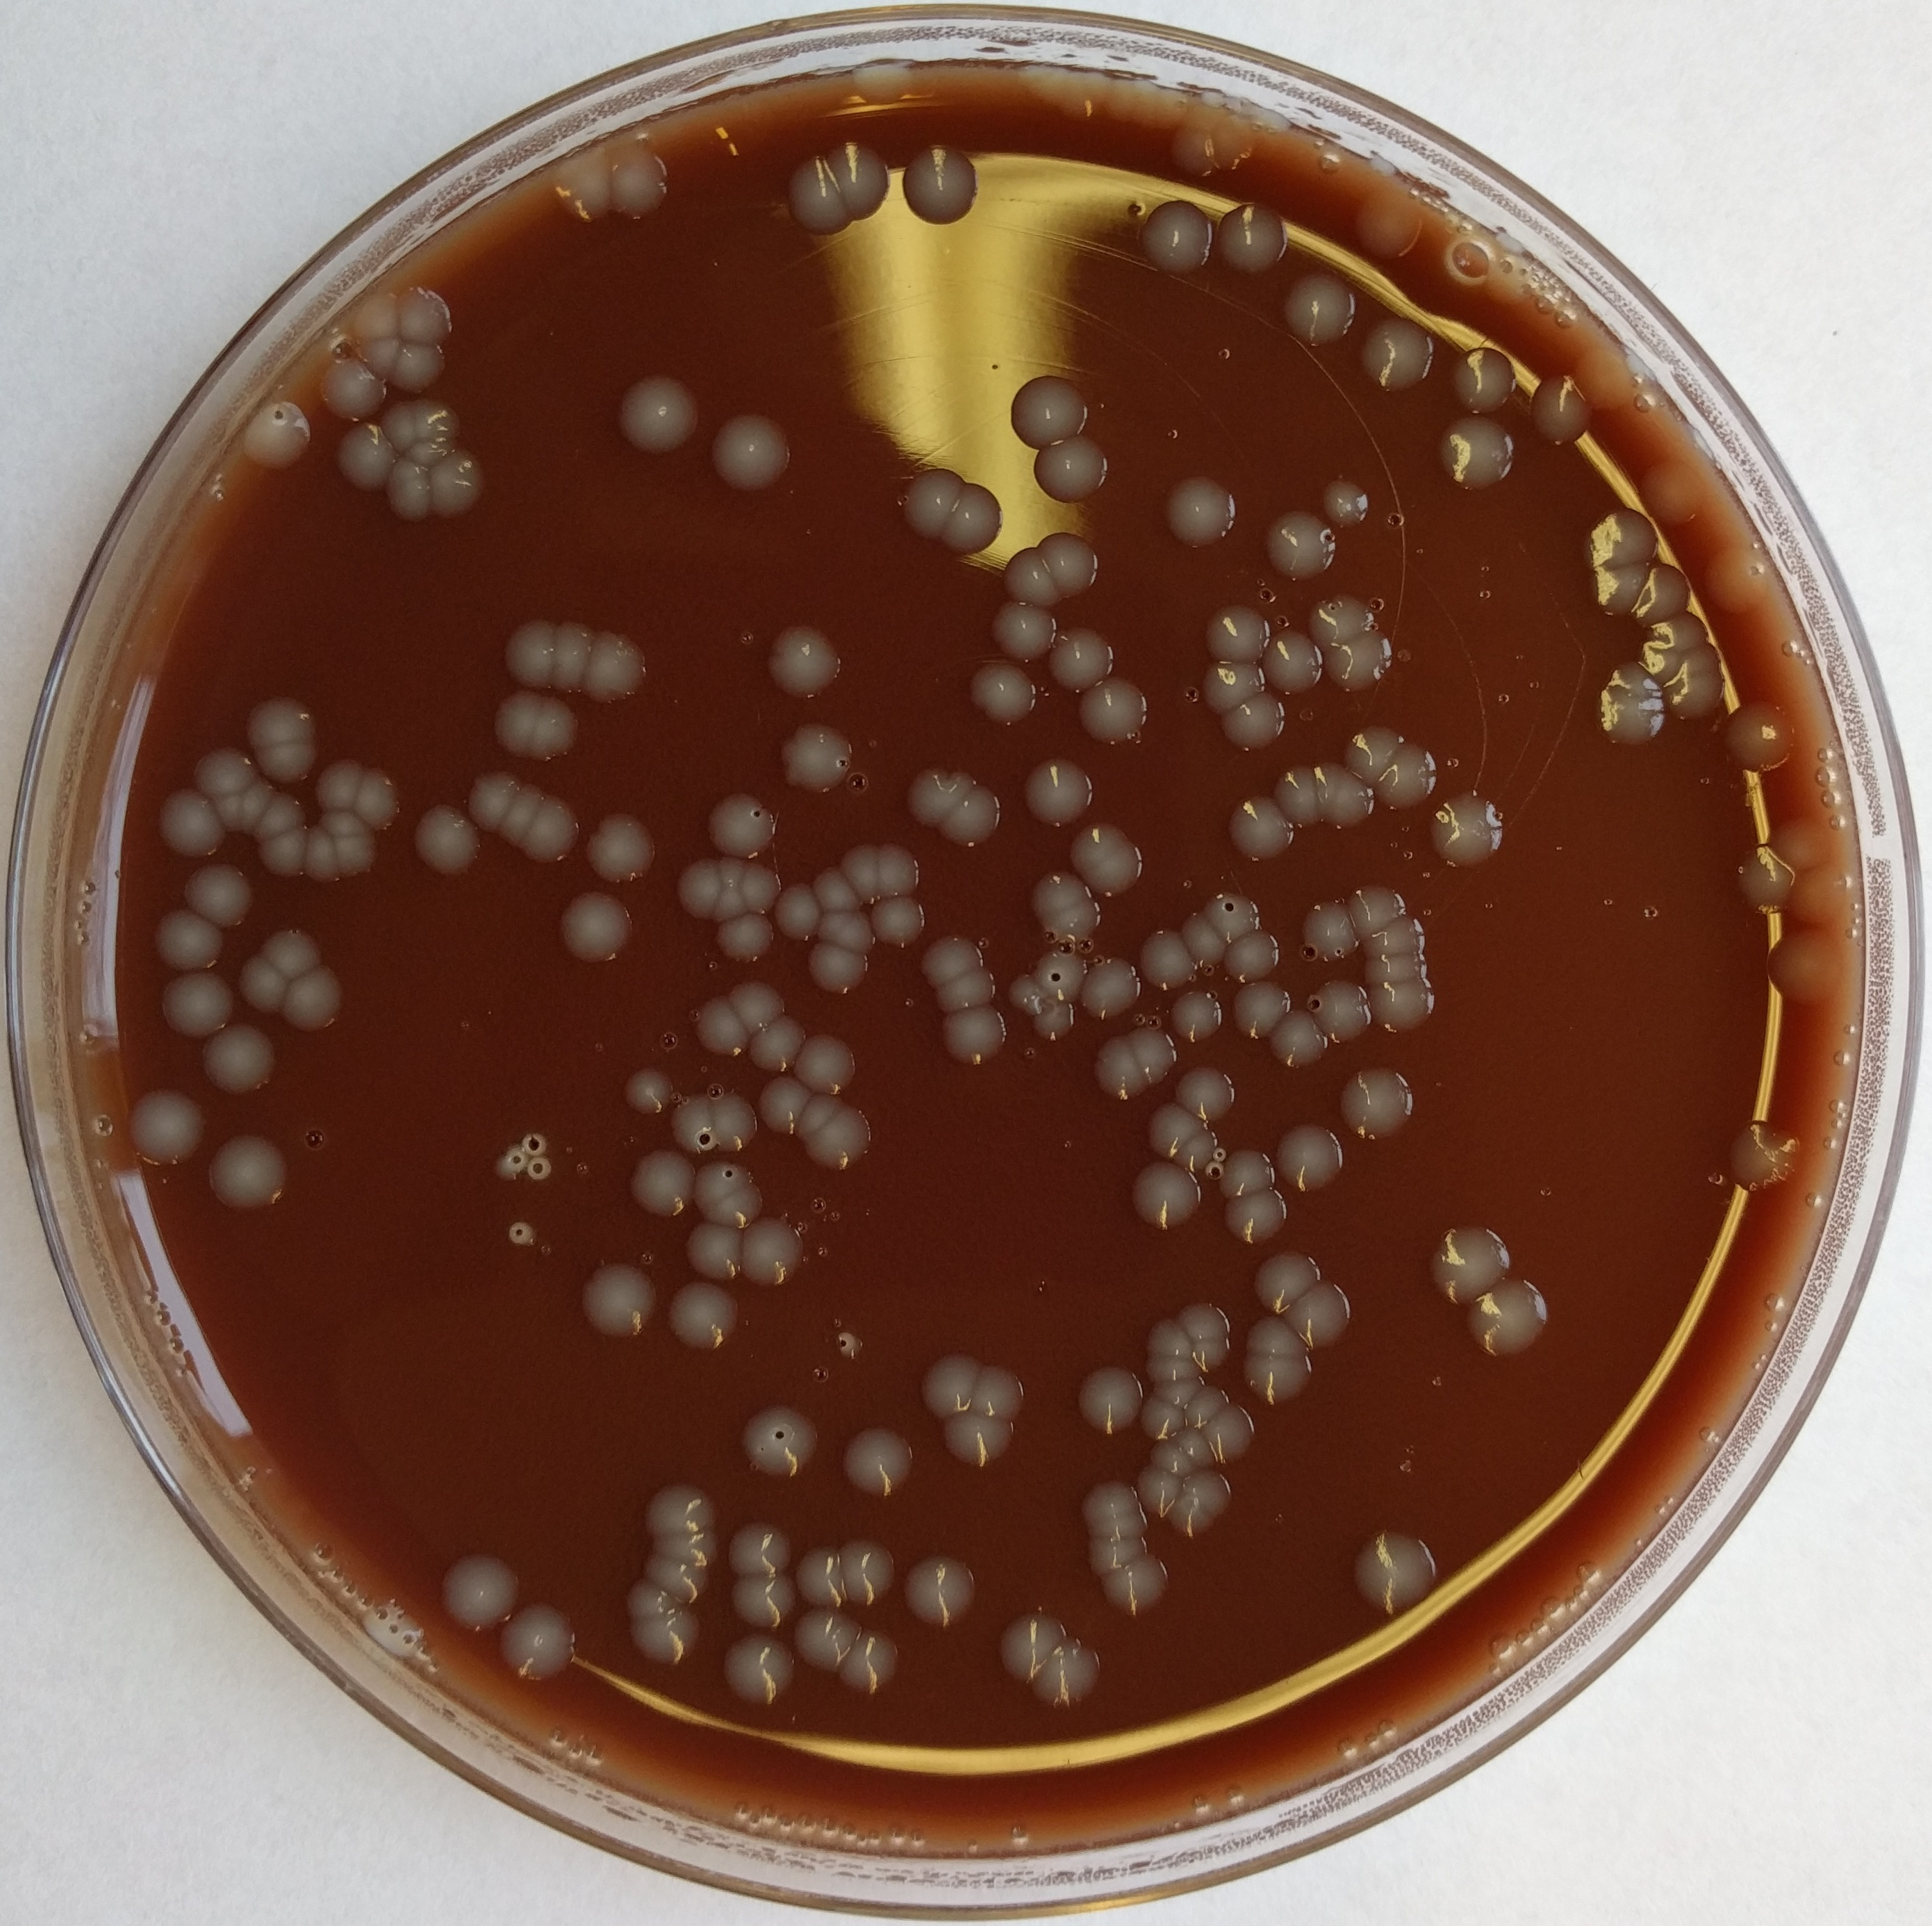sp02: (1343, 1522, 1453, 1617), (603, 367, 707, 459), (1426, 406, 1525, 497), (434, 1545, 529, 1639), (118, 1086, 213, 1180), (201, 1129, 307, 1212), (1130, 187, 1220, 279), (492, 1596, 583, 1686), (1463, 1273, 1557, 1362), (1423, 1215, 1518, 1302), (892, 145, 992, 226), (1274, 265, 1363, 356), (1003, 370, 1098, 455), (571, 1259, 663, 1344), (1162, 462, 1243, 557), (1423, 781, 1509, 868), (769, 718, 860, 799), (834, 1422, 925, 1503), (1590, 665, 1676, 750), (1356, 310, 1438, 399), (709, 407, 797, 490), (1068, 672, 1156, 755), (1259, 503, 1349, 584), (550, 884, 640, 965), (656, 1273, 746, 1353), (1722, 690, 1803, 774), (763, 619, 848, 700), (1125, 1155, 1204, 1242), (1765, 919, 1842, 1007), (899, 1549, 980, 1631), (197, 1021, 282, 1101), (176, 861, 266, 935), (931, 1397, 1022, 1469), (405, 802, 487, 884), (1336, 1056, 1416, 1139), (821, 134, 897, 220), (1042, 621, 1121, 702), (1021, 751, 1102, 831), (1347, 180, 1424, 263), (1215, 790, 1299, 866), (717, 1630, 802, 1706), (622, 1138, 698, 1222), (1271, 1120, 1350, 1199), (1211, 196, 1289, 277), (703, 790, 784, 868), (1447, 339, 1523, 422), (739, 1402, 823, 1476), (583, 806, 661, 885), (1728, 1111, 1802, 1194), (152, 972, 240, 1041), (991, 1605, 1068, 1683), (1282, 1279, 1361, 1355), (152, 905, 233, 979), (777, 152, 850, 235), (583, 621, 652, 707), (1072, 1360, 1149, 1436), (735, 1215, 813, 1291), (146, 783, 226, 857), (1033, 437, 1116, 508), (1669, 633, 1731, 727), (1216, 684, 1296, 757), (1088, 1550, 1169, 1621), (1033, 1639, 1103, 1720), (894, 464, 968, 540), (721, 1519, 799, 1591), (1634, 452, 1705, 531), (892, 757, 971, 827), (1209, 1182, 1294, 1247), (1237, 1342, 1322, 1407), (1696, 545, 1768, 621), (786, 1026, 862, 1099), (966, 658, 1044, 728), (1322, 626, 1403, 693), (1357, 974, 1440, 1039), (941, 480, 1014, 554), (1246, 1245, 1322, 1316), (280, 965, 351, 1041), (1364, 746, 1442, 815), (987, 594, 1059, 667), (1075, 952, 1148, 1025), (913, 1347, 987, 1418), (797, 1104, 873, 1173), (495, 616, 561, 695), (1082, 838, 1155, 908), (335, 422, 405, 494), (1133, 926, 1207, 995), (240, 400, 314, 469), (1200, 601, 1276, 668), (836, 1533, 901, 1610), (1735, 838, 1796, 919), (1253, 624, 1326, 693), (936, 1002, 1008, 1071), (638, 1476, 721, 1536), (481, 686, 546, 762), (606, 145, 668, 224), (1163, 1053, 1234, 1122), (1306, 977, 1378, 1044), (1082, 1032, 1149, 1104), (1761, 811, 1837, 875), (552, 146, 613, 224), (724, 1573, 804, 1633), (527, 792, 587, 871), (666, 1088, 735, 1157), (1237, 1307, 1319, 1365), (1035, 531, 1107, 596), (994, 547, 1066, 612), (1264, 1005, 1336, 1071), (744, 1007, 809, 1079), (1527, 370, 1588, 446), (938, 785, 1008, 850), (1197, 1397, 1262, 1467), (1581, 508, 1653, 571), (1206, 1139, 1280, 1201), (1017, 945, 1093, 1005), (709, 907, 784, 967), (629, 1605, 707, 1663), (427, 452, 494, 519), (705, 1086, 765, 1161), (848, 55, 929, 109), (1357, 907, 1433, 965), (636, 1549, 714, 1605), (1313, 466, 1380, 531), (1296, 900, 1361, 967), (686, 1221, 751, 1288), (668, 854, 733, 921), (1341, 878, 1410, 942), (317, 356, 386, 420), (1786, 855, 1847, 926), (837, 1621, 899, 1691), (791, 1545, 857, 1610), (346, 765, 407, 834), (393, 284, 455, 353), (869, 836, 929, 907), (187, 750, 257, 810), (1135, 1102, 1207, 1161), (1266, 762, 1322, 836), (911, 933, 987, 988), (866, 891, 931, 954), (804, 935, 869, 998), (1125, 1459, 1188, 1524), (1063, 817, 1130, 878), (687, 1153, 754, 1215), (1583, 552, 1652, 612), (1195, 653, 1264, 713), (747, 1071, 807, 1139), (693, 1182, 770, 1235), (529, 700, 583, 774), (1223, 924, 1285, 989), (252, 822, 317, 884), (460, 765, 520, 832), (384, 337, 451, 397), (254, 921, 324, 977), (1077, 1526, 1149, 1580), (243, 693, 316, 748), (1572, 346, 1634, 409), (1123, 1014, 1176, 1088), (642, 1524, 721, 1573), (1341, 720, 1407, 780), (793, 1603, 853, 1668), (233, 952, 293, 1018), (545, 616, 591, 700), (1636, 557, 1696, 621), (1200, 887, 1264, 947), (1230, 982, 1296, 1041), (247, 737, 321, 788), (1310, 593, 1377, 649), (1165, 982, 1225, 1044), (687, 993, 747, 1055), (970, 1360, 1029, 1422), (783, 1083, 846, 1141), (407, 393, 467, 453), (495, 781, 545, 854), (247, 790, 314, 843), (1207, 108, 1259, 176), (620, 1571, 689, 1623), (724, 974, 784, 1032), (1636, 608, 1706, 658), (1045, 891, 1103, 949), (1024, 988, 1081, 1048), (770, 880, 827, 940), (1178, 908, 1232, 970), (1163, 127, 1227, 180), (388, 459, 439, 524), (1179, 1460, 1237, 1517), (1028, 868, 1091, 919), (619, 1062, 682, 1113), (1079, 1476, 1149, 1522), (1331, 767, 1378, 834), (931, 968, 998, 1016), (809, 861, 867, 915), (1361, 947, 1430, 993), (1170, 1120, 1223, 1178), (1081, 1503, 1156, 1543), (839, 840, 885, 907), (331, 829, 388, 880), (1148, 1434, 1206, 1483), (1170, 1300, 1232, 1346), (310, 753, 363, 806), (300, 820, 344, 884), (347, 287, 402, 339), (234, 773, 279, 834), (820, 903, 873, 954), (374, 402, 421, 459), (1162, 1490, 1215, 1540), (1636, 640, 1690, 688), (208, 787, 256, 841), (353, 326, 400, 381), (740, 861, 788, 914), (1312, 758, 1349, 825), (1148, 1369, 1206, 1409), (1135, 1392, 1188, 1436), (1162, 1416, 1215, 1460), (998, 968, 1045, 1016), (1144, 1347, 1202, 1386), (1183, 1379, 1225, 1429), (1144, 1319, 1195, 1360), (316, 802, 370, 840), (1188, 1330, 1236, 1372), (400, 436, 457, 469), (1178, 97, 1222, 138), (710, 878, 751, 919), (712, 850, 753, 887)
